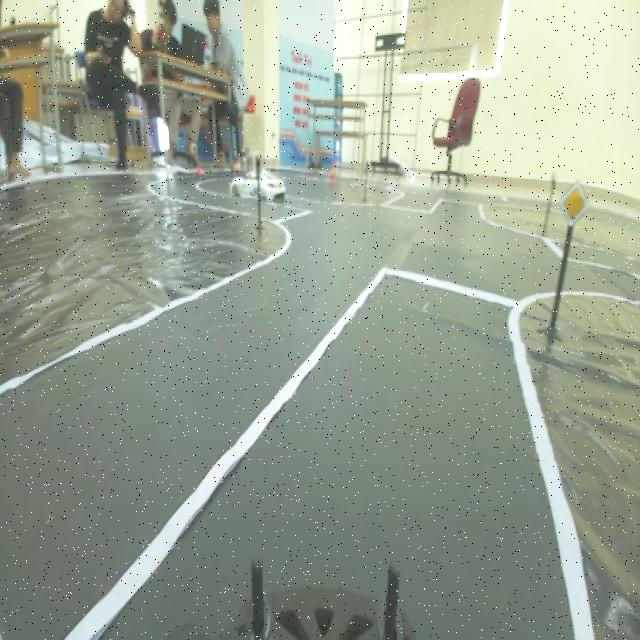priority: (560, 175, 594, 234)
